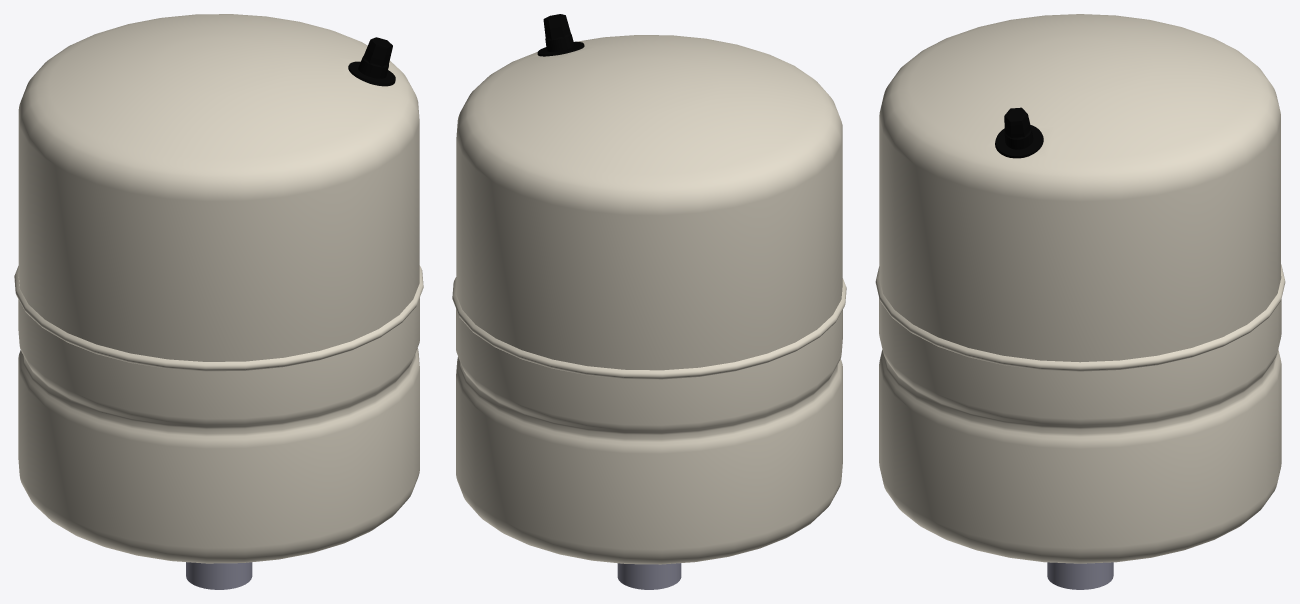
Rendered from 12lt-sabit-tank.fbx.
3 views of the same model, side by side, from view 1: azimuth 30°, elevation 25°; view 2: azimuth 150°, elevation 25°; view 3: azimuth 270°, elevation 25° (orthographic). The views are drawn at different scales.
Parts seen in each view (by area): view 1: 12lt-sabit-tank.007, 12lt-sabit-tank.002, 12lt-sabit-tank.006, 12lt-sabit-tank.008, 12lt-sabit-tank.001; view 2: 12lt-sabit-tank.007, 12lt-sabit-tank.002, 12lt-sabit-tank.006, 12lt-sabit-tank.008, 12lt-sabit-tank.001; view 3: 12lt-sabit-tank.007, 12lt-sabit-tank.002, 12lt-sabit-tank.006, 12lt-sabit-tank.001, 12lt-sabit-tank.008.
Boxes of the visible parts, bbox=[...] form: 12lt-sabit-tank.007: bbox=[18, 14, 419, 361]; 12lt-sabit-tank.002: bbox=[18, 280, 419, 563]; 12lt-sabit-tank.006: bbox=[14, 265, 423, 371]; 12lt-sabit-tank.008: bbox=[186, 562, 252, 589]; 12lt-sabit-tank.001: bbox=[348, 37, 395, 86]; 12lt-sabit-tank.007: bbox=[456, 35, 842, 370]; 12lt-sabit-tank.002: bbox=[456, 309, 842, 564]; 12lt-sabit-tank.006: bbox=[452, 277, 846, 379]; 12lt-sabit-tank.008: bbox=[617, 563, 681, 589]; 12lt-sabit-tank.001: bbox=[537, 14, 584, 56]; 12lt-sabit-tank.007: bbox=[879, 14, 1280, 362]; 12lt-sabit-tank.002: bbox=[879, 298, 1281, 563]; 12lt-sabit-tank.006: bbox=[875, 264, 1285, 371]; 12lt-sabit-tank.001: bbox=[995, 107, 1043, 158]; 12lt-sabit-tank.008: bbox=[1047, 562, 1113, 589].
Size of the model in its own units: 810 by 1150 by 810.
